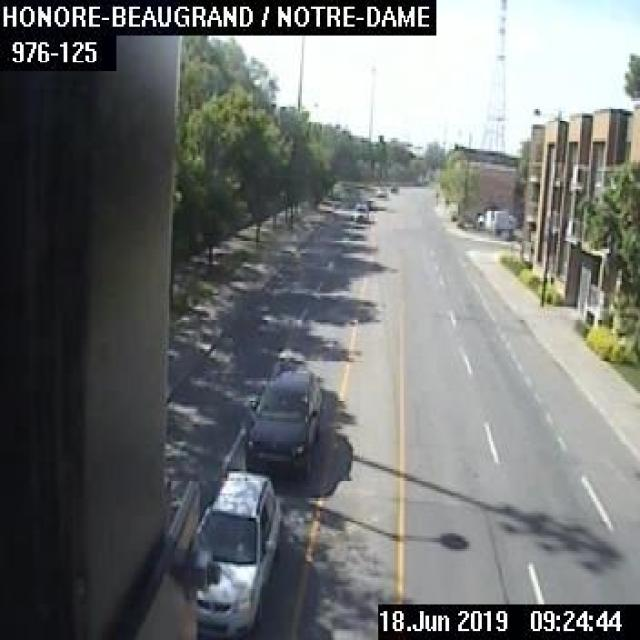vehicle: (196, 470, 282, 638), (244, 368, 320, 478), (352, 203, 366, 219), (374, 185, 385, 195)
